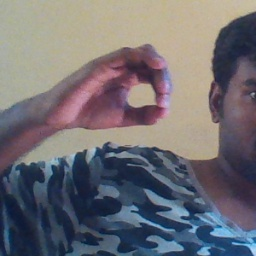O: (52, 38, 183, 139)
